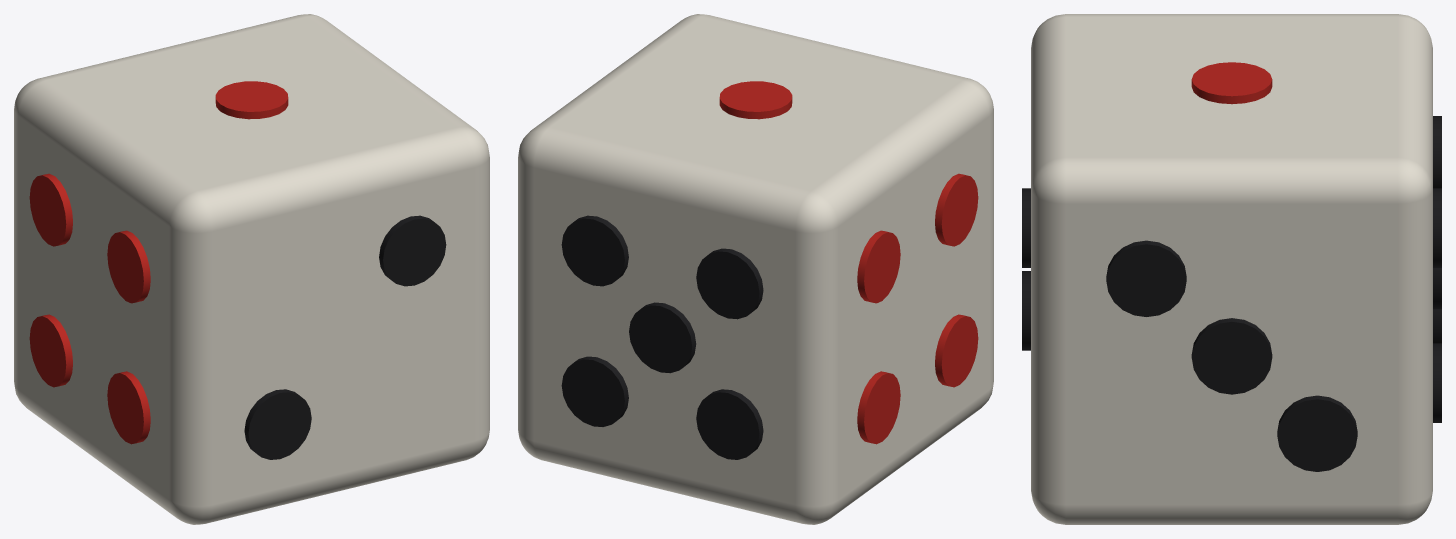
File: artifact.glb
3 renders of one model, left to right at view 1: azimuth 30°, elevation 25°; view 2: azimuth 150°, elevation 25°; view 3: azimuth 270°, elevation 25°, orthographic. The views are drawn at different scales.
Parts seen in each view (by area): view 1: DiceBody, PipFace2_0, PipFace2_1, PipFace4_3, PipFace4_1, PipFace4_0, PipFace4_2, PipFace1_0; view 2: DiceBody, PipFace5_1, PipFace5_2, PipFace5_4, PipFace5_0, PipFace5_3, PipFace4_2, PipFace4_0, PipFace4_1, PipFace4_3, PipFace1_0; view 3: DiceBody, PipFace3_1, PipFace3_0, PipFace3_2, PipFace1_0, PipFace2_0, PipFace2_1, PipFace5_3, PipFace5_4, PipFace5_2.
Part boxes in pixels (x1,y1,x2,y2): DiceBody: (14, 14, 489, 524); PipFace2_0: (244, 389, 311, 459); PipFace2_1: (379, 215, 446, 286); PipFace4_3: (107, 230, 150, 303); PipFace4_1: (107, 371, 150, 444); PipFace4_0: (29, 314, 72, 387); PipFace4_2: (29, 173, 72, 246); PipFace1_0: (215, 81, 288, 119); DiceBody: (518, 14, 993, 524); PipFace5_1: (696, 389, 763, 459); PipFace5_2: (696, 248, 763, 319); PipFace5_4: (561, 215, 628, 286); PipFace5_0: (629, 302, 696, 373); PipFace5_3: (561, 356, 628, 426); PipFace4_2: (857, 230, 900, 303); PipFace4_0: (857, 371, 900, 444); PipFace4_1: (935, 314, 978, 387); PipFace4_3: (935, 173, 978, 246); PipFace1_0: (719, 81, 792, 119); DiceBody: (1031, 14, 1432, 524); PipFace3_1: (1191, 318, 1272, 394); PipFace3_0: (1277, 395, 1357, 471); PipFace3_2: (1106, 240, 1186, 316); PipFace1_0: (1191, 62, 1272, 104); PipFace2_0: (1022, 271, 1030, 350); PipFace2_1: (1022, 188, 1030, 267); PipFace5_3: (1433, 343, 1441, 422); PipFace5_4: (1433, 188, 1441, 267); PipFace5_2: (1433, 116, 1441, 188).
Size of the model in its own units: 0.0167 by 0.0167 by 0.0167.
